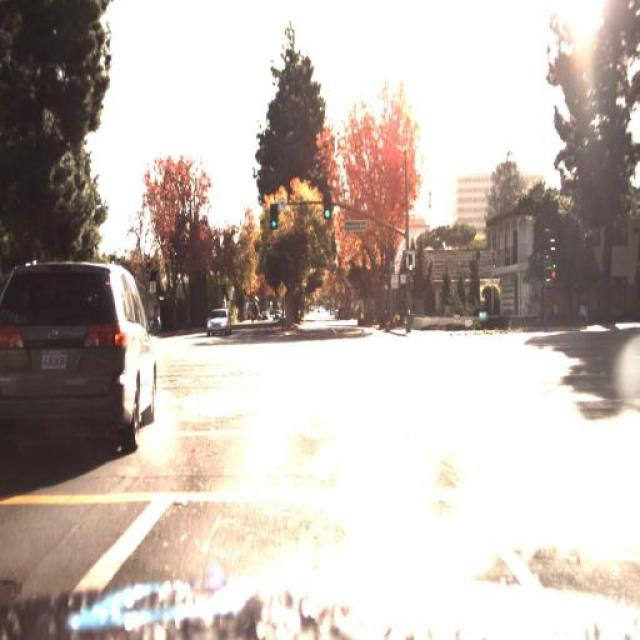car: (0, 250, 160, 444), (205, 305, 231, 336)
trafficLight-GreenLeft: (322, 186, 332, 217), (408, 246, 417, 272)
trafficLight-Red: (268, 201, 278, 228)
